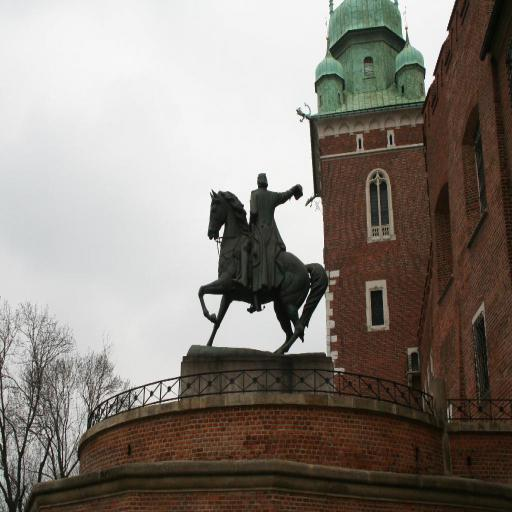Horse: (198, 189, 328, 356)
